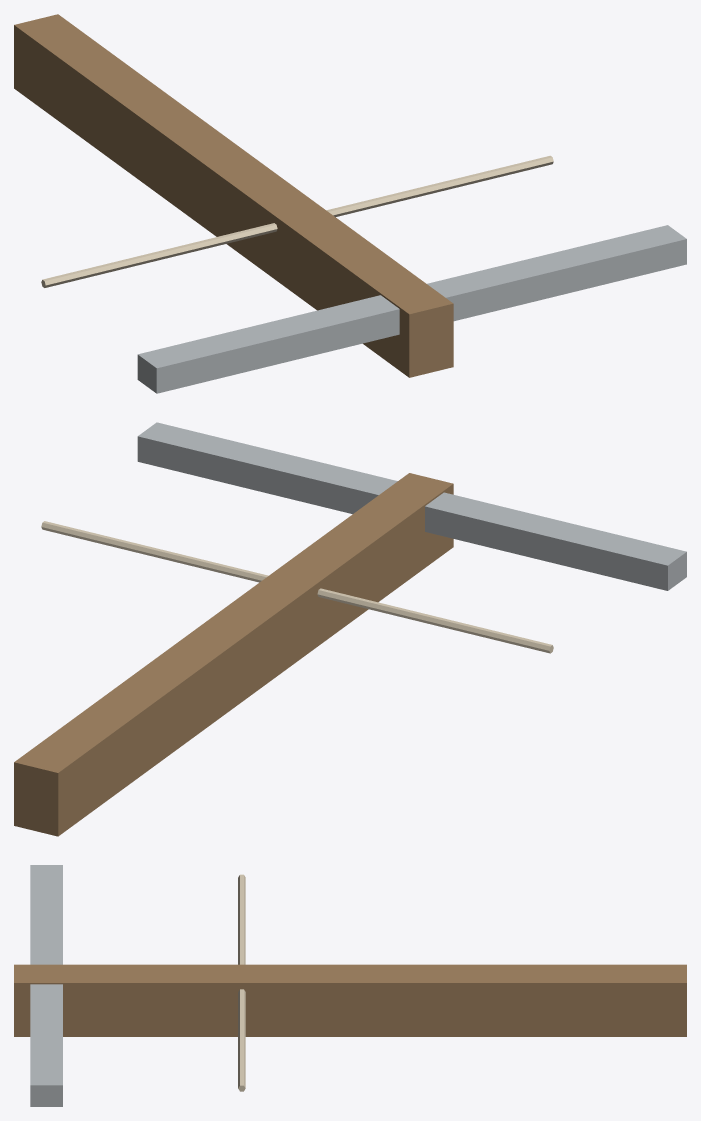
File: SM_Crossbow.fbx
The picture shows the model from 3 angles, top to bottom: view 1: azimuth 30°, elevation 25°; view 2: azimuth 150°, elevation 25°; view 3: azimuth 270°, elevation 25°; orthographic projection. The views are drawn at different scales.
Parts seen in each view (by area): view 1: SM_Crossbow; view 2: SM_Crossbow; view 3: SM_Crossbow.
Boxes of the visible parts, x1,y1,x2,y2 form: SM_Crossbow: (14,14,686,393); SM_Crossbow: (14,422,686,836); SM_Crossbow: (14,865,686,1106).
Bounding box in the file's own units: 4800 × 6200 × 550.
